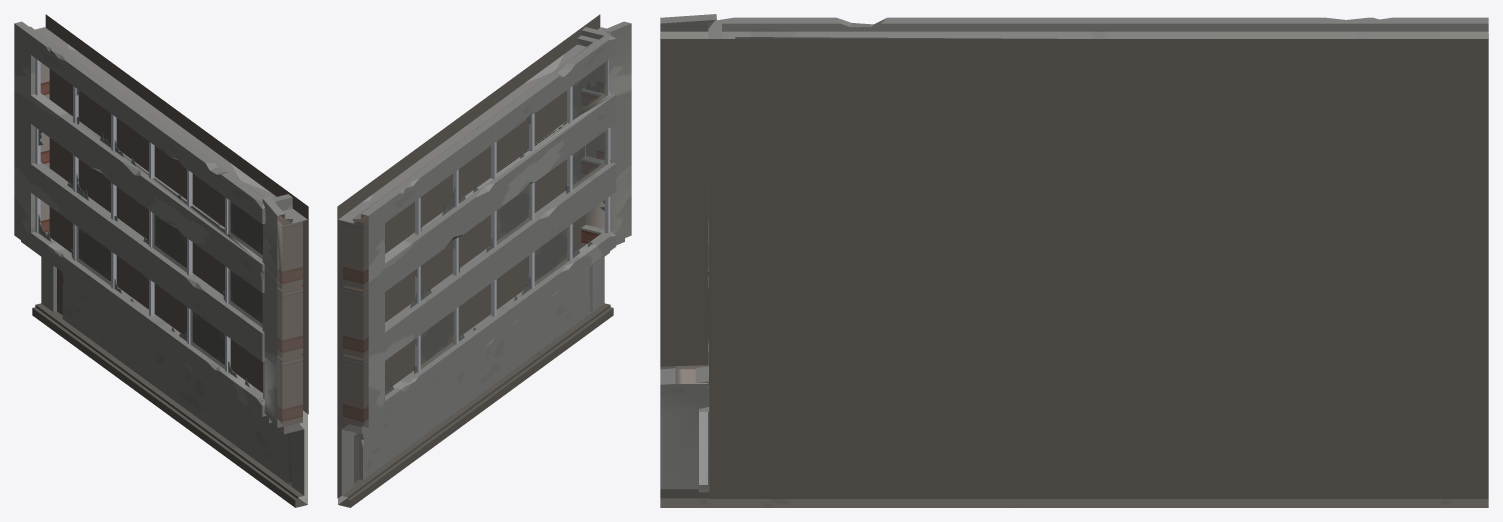
The model's file is Bld_1_Equal.fbx.
3 renders of one model, left to right at view 1: azimuth 30°, elevation 25°; view 2: azimuth 150°, elevation 25°; view 3: azimuth 270°, elevation 25°, orthographic. The views are drawn at different scales.
Visible parts, largest first — view 1: Bld_1_Equal; view 2: Bld_1_Equal; view 3: Bld_1_Equal.
Boxes of the visible parts, box(x1,y1,x2,y2) form: Bld_1_Equal: box(14, 14, 308, 507); Bld_1_Equal: box(337, 14, 631, 507); Bld_1_Equal: box(660, 14, 1488, 507).
Size of the model in its own units: 144 by 1309 by 2078.
Materials: 3 (3 with a texture image).
